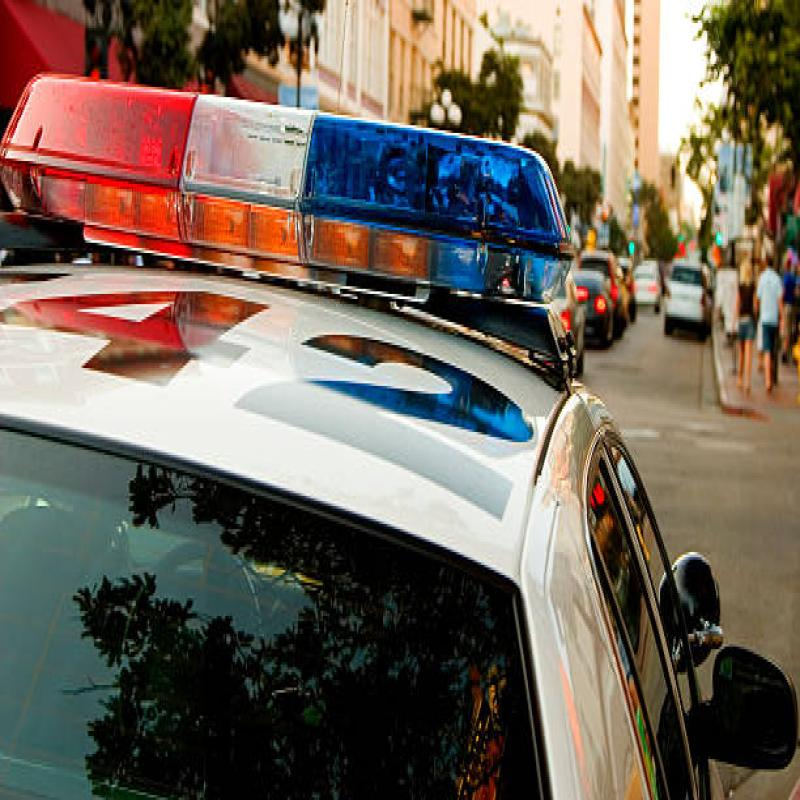AmbulanceSiren: (0, 33, 587, 388)
